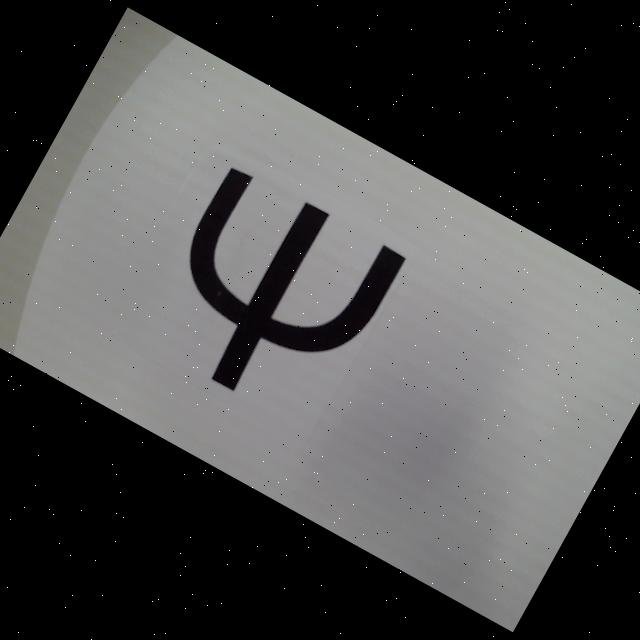PSI: (134, 160, 408, 434)
